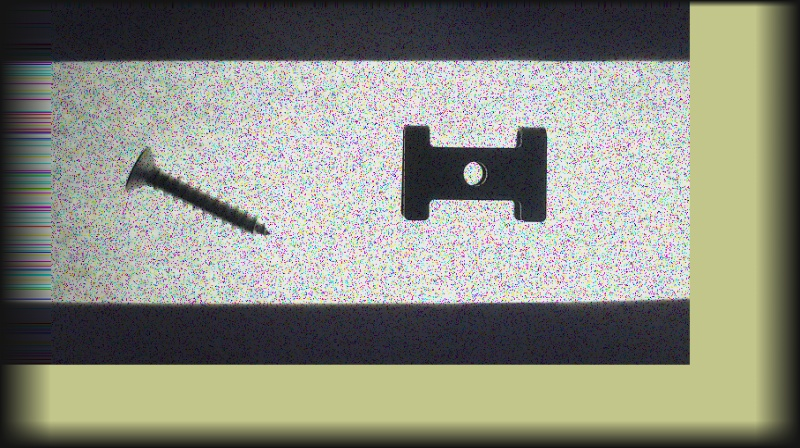O002: (397, 122, 545, 223)
S001: (123, 147, 269, 235)
